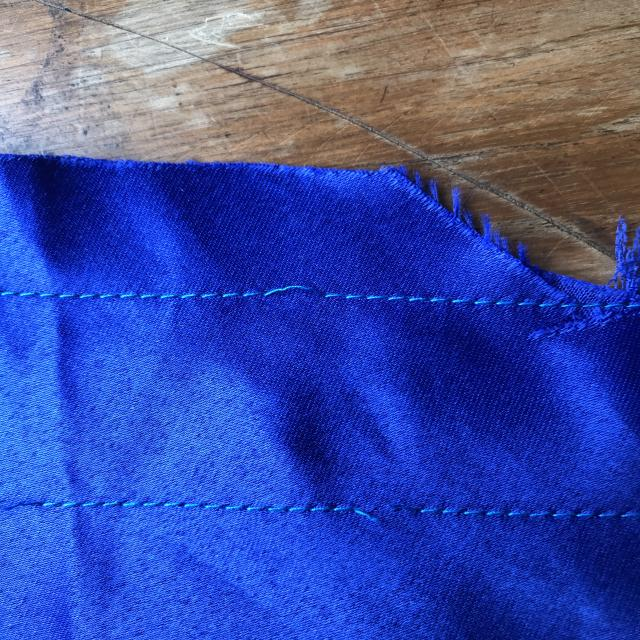broken: (332, 488, 446, 549)
good: (124, 480, 259, 528)
skip: (240, 265, 326, 330)
